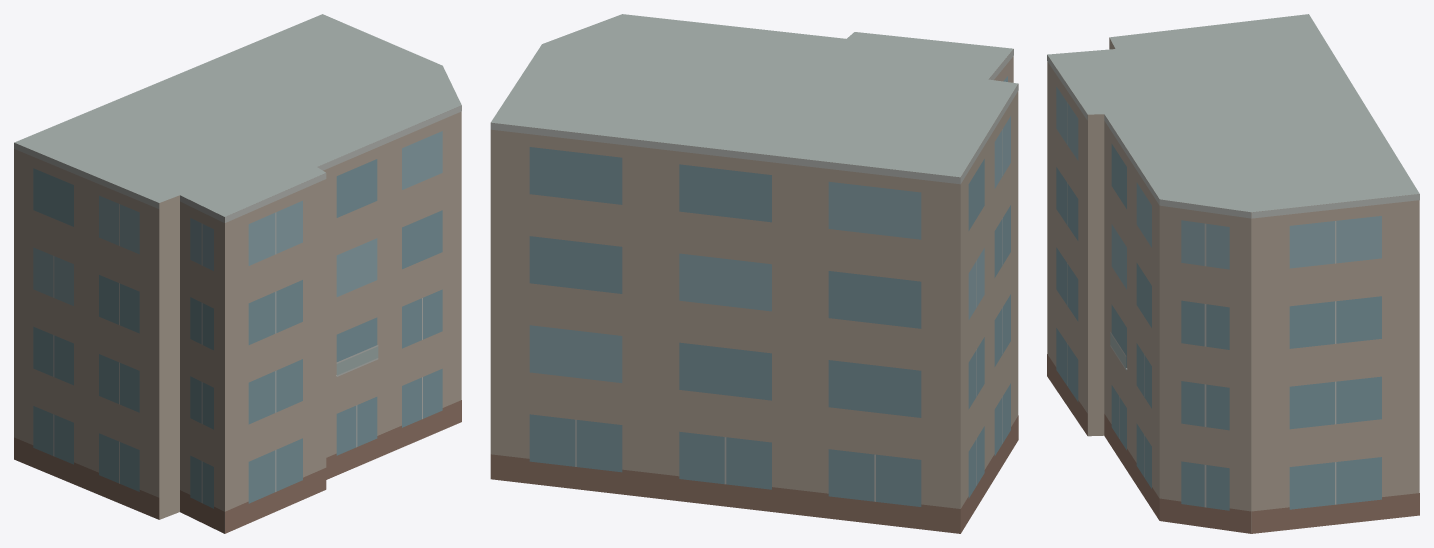
File: survey-upis-32781146.glb
The picture shows the model from 3 angles, left to right: view 1: azimuth 30°, elevation 25°; view 2: azimuth 150°, elevation 25°; view 3: azimuth 270°, elevation 25°; orthographic projection. The views are drawn at different scales.
Visible parts, largest first — view 1: survey-upis-32781146.tmp; view 2: survey-upis-32781146.tmp; view 3: survey-upis-32781146.tmp.
Part boxes in pixels (bbox=[...]): survey-upis-32781146.tmp: bbox=[14, 14, 461, 533]; survey-upis-32781146.tmp: bbox=[490, 14, 1018, 533]; survey-upis-32781146.tmp: bbox=[1047, 14, 1419, 533].
Bounding box in the file's own units: 16.47 × 12.45 × 13.09.
